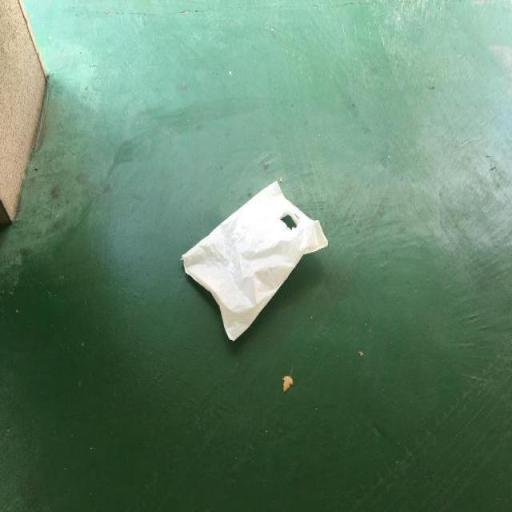plastic-bag: (184, 175, 333, 343)
